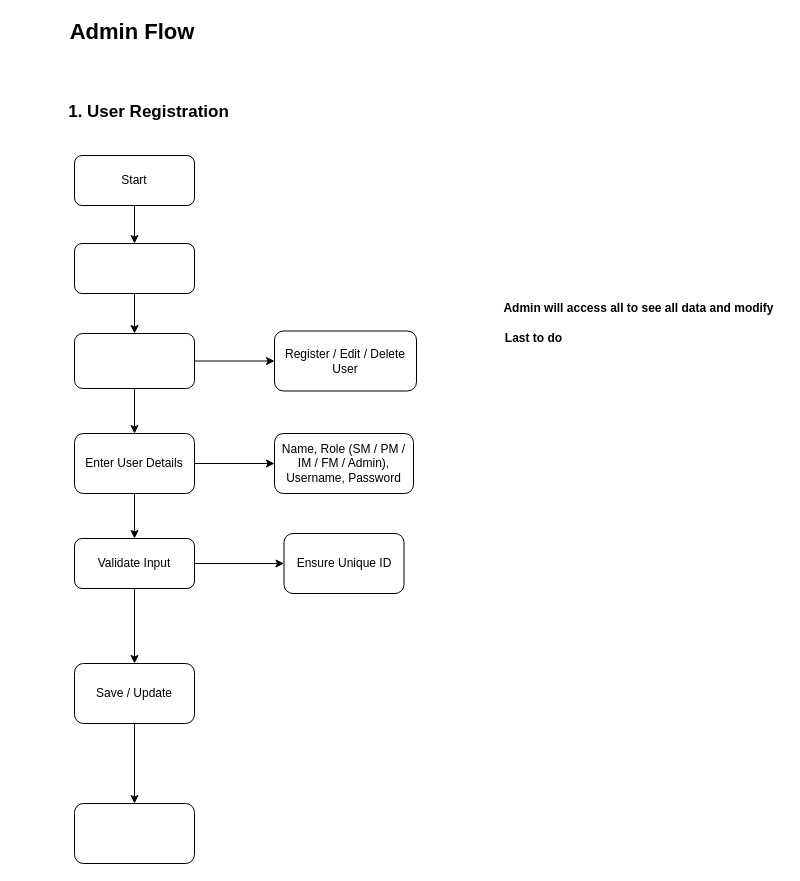
This 800x881 diagram has some shape labels left out. The shapes that lost their labels are listed below. From the top down, each one's centre as x and y in pixels, then its label:
(x=134, y=268): Select "User Management"
(x=134, y=360): Choose Action
(x=134, y=833): End
